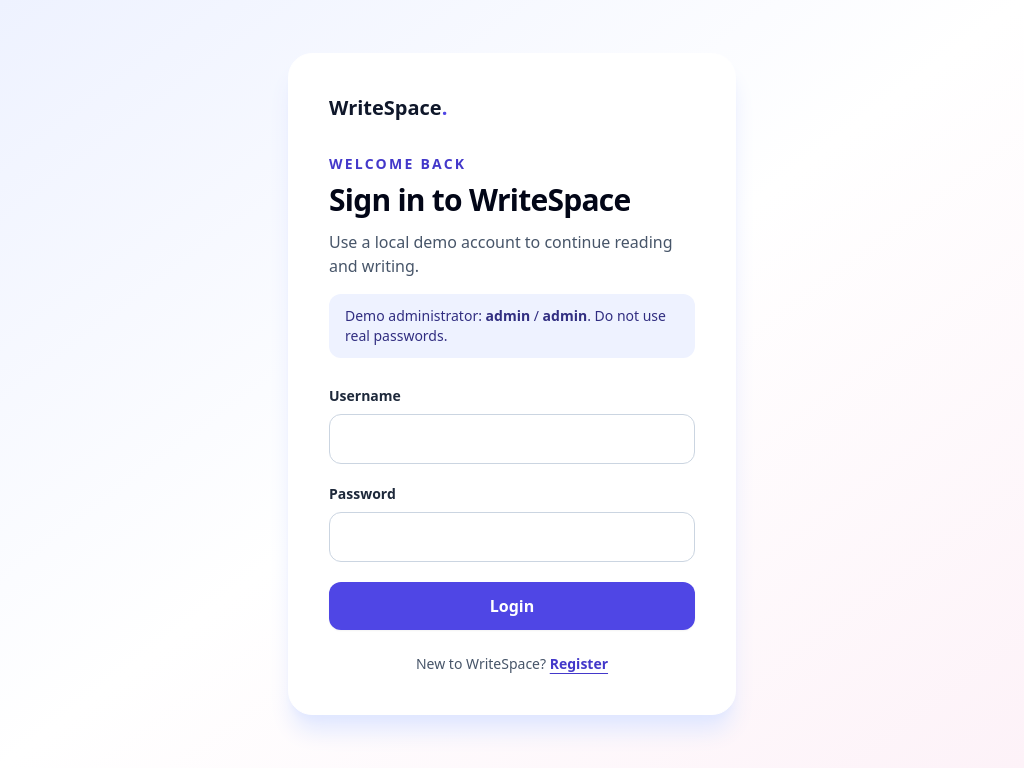
Test: authentication pages › shows labeled login inputs and exposes inline errors for invalid credentials
Type "admin" into the field labelled "Username" at (512, 439), box [329, 414, 695, 464]
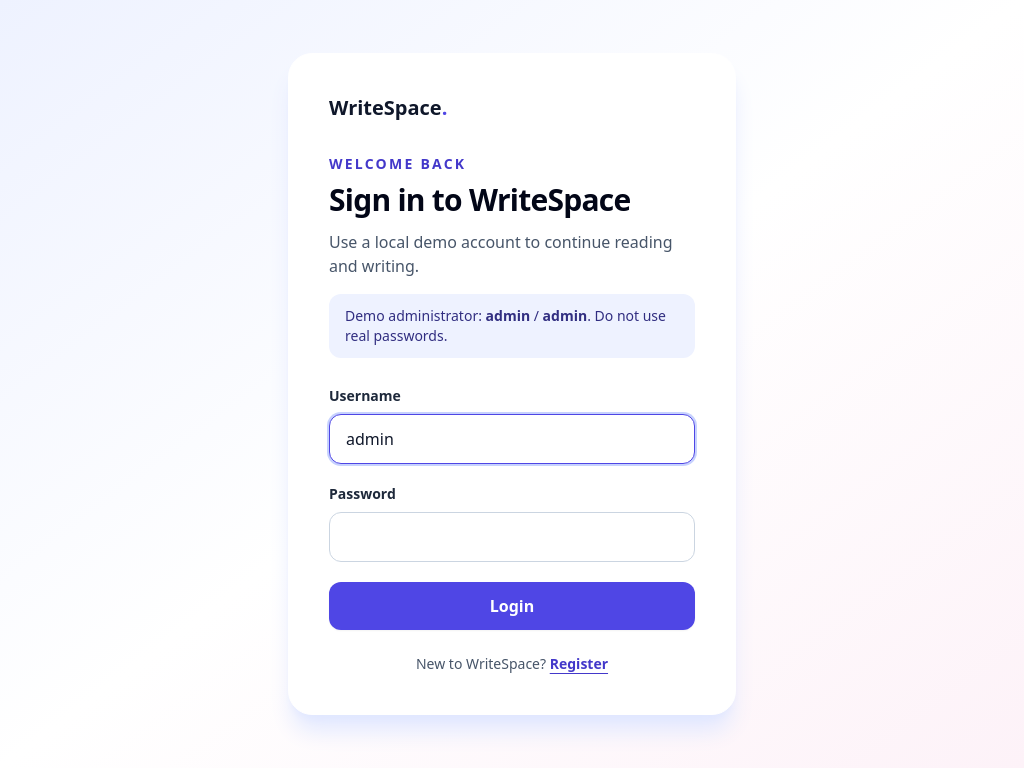
Type "incorrect" into the password field labelled "Password" at (512, 537), box [329, 512, 695, 562]
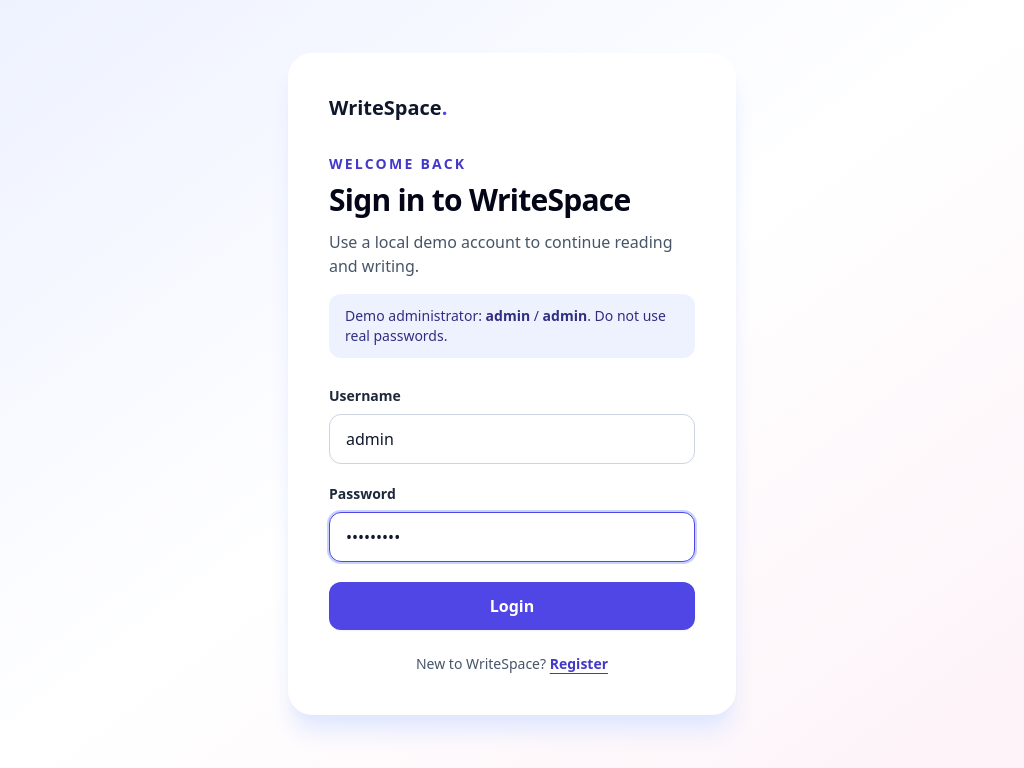
Click the button "Login" at (512, 606), box [329, 582, 695, 630]
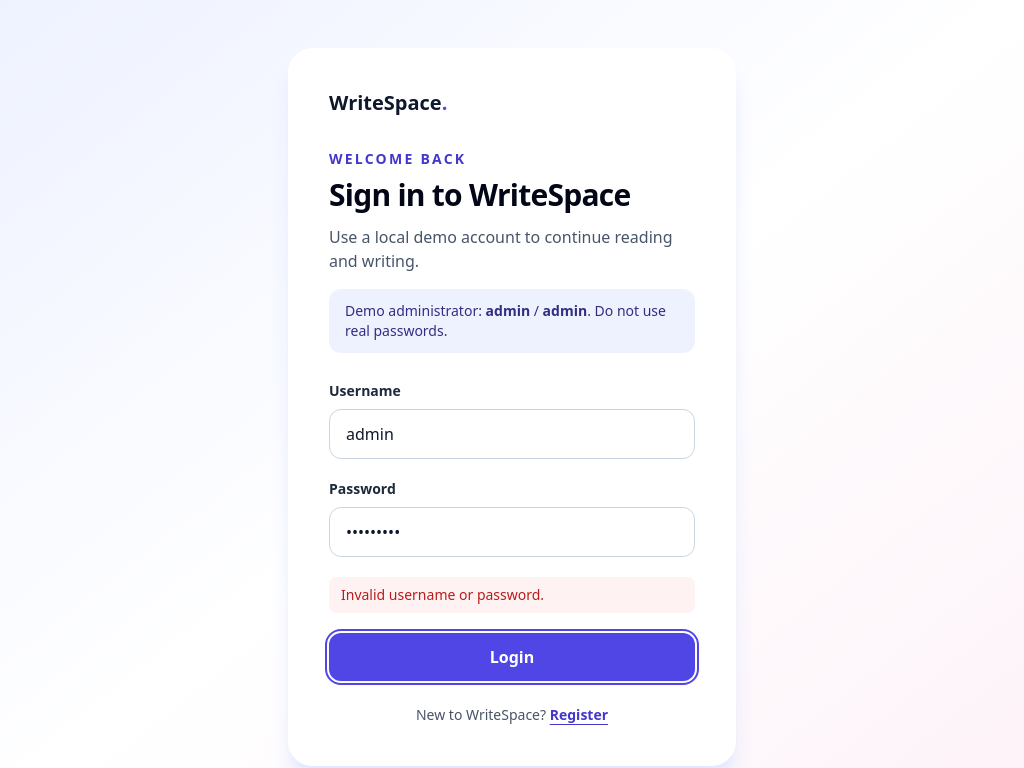
Expected: the message reads "Invalid username or password.", [341, 585, 544, 604]
